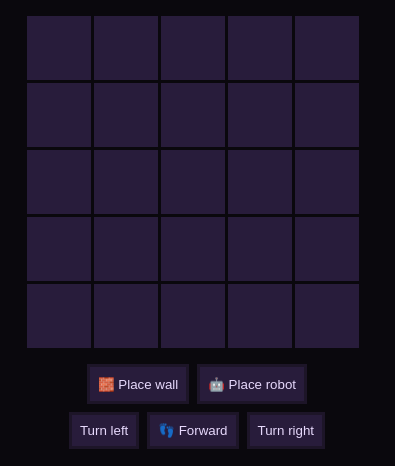
Board component (Board.tsx) › Place robot mode › hide place and move buttons
Click the button "🤖 Place robot" at x=252, y=384, box [197,364,307,404]
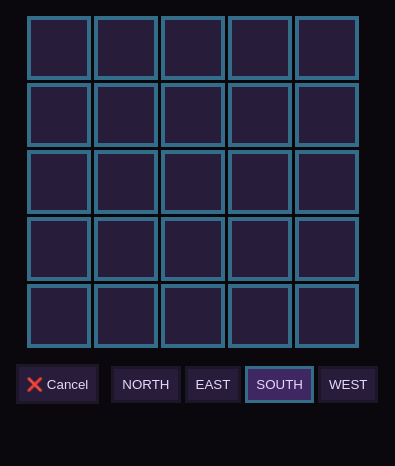
Check: the button "right" is gone
